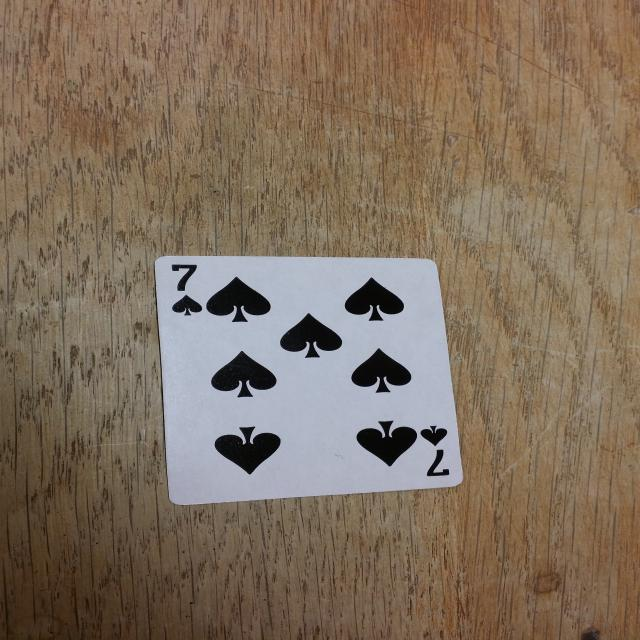7s: (410, 423, 462, 486), (160, 260, 210, 321)
